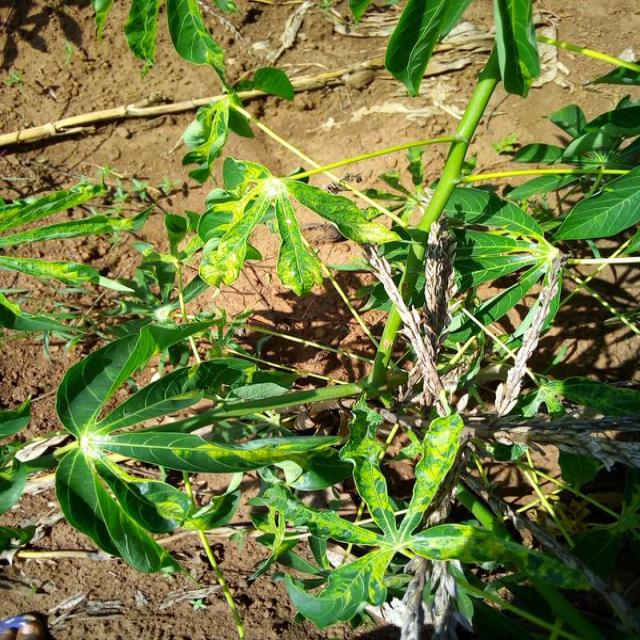cassava leaf: (197, 154, 400, 298)
